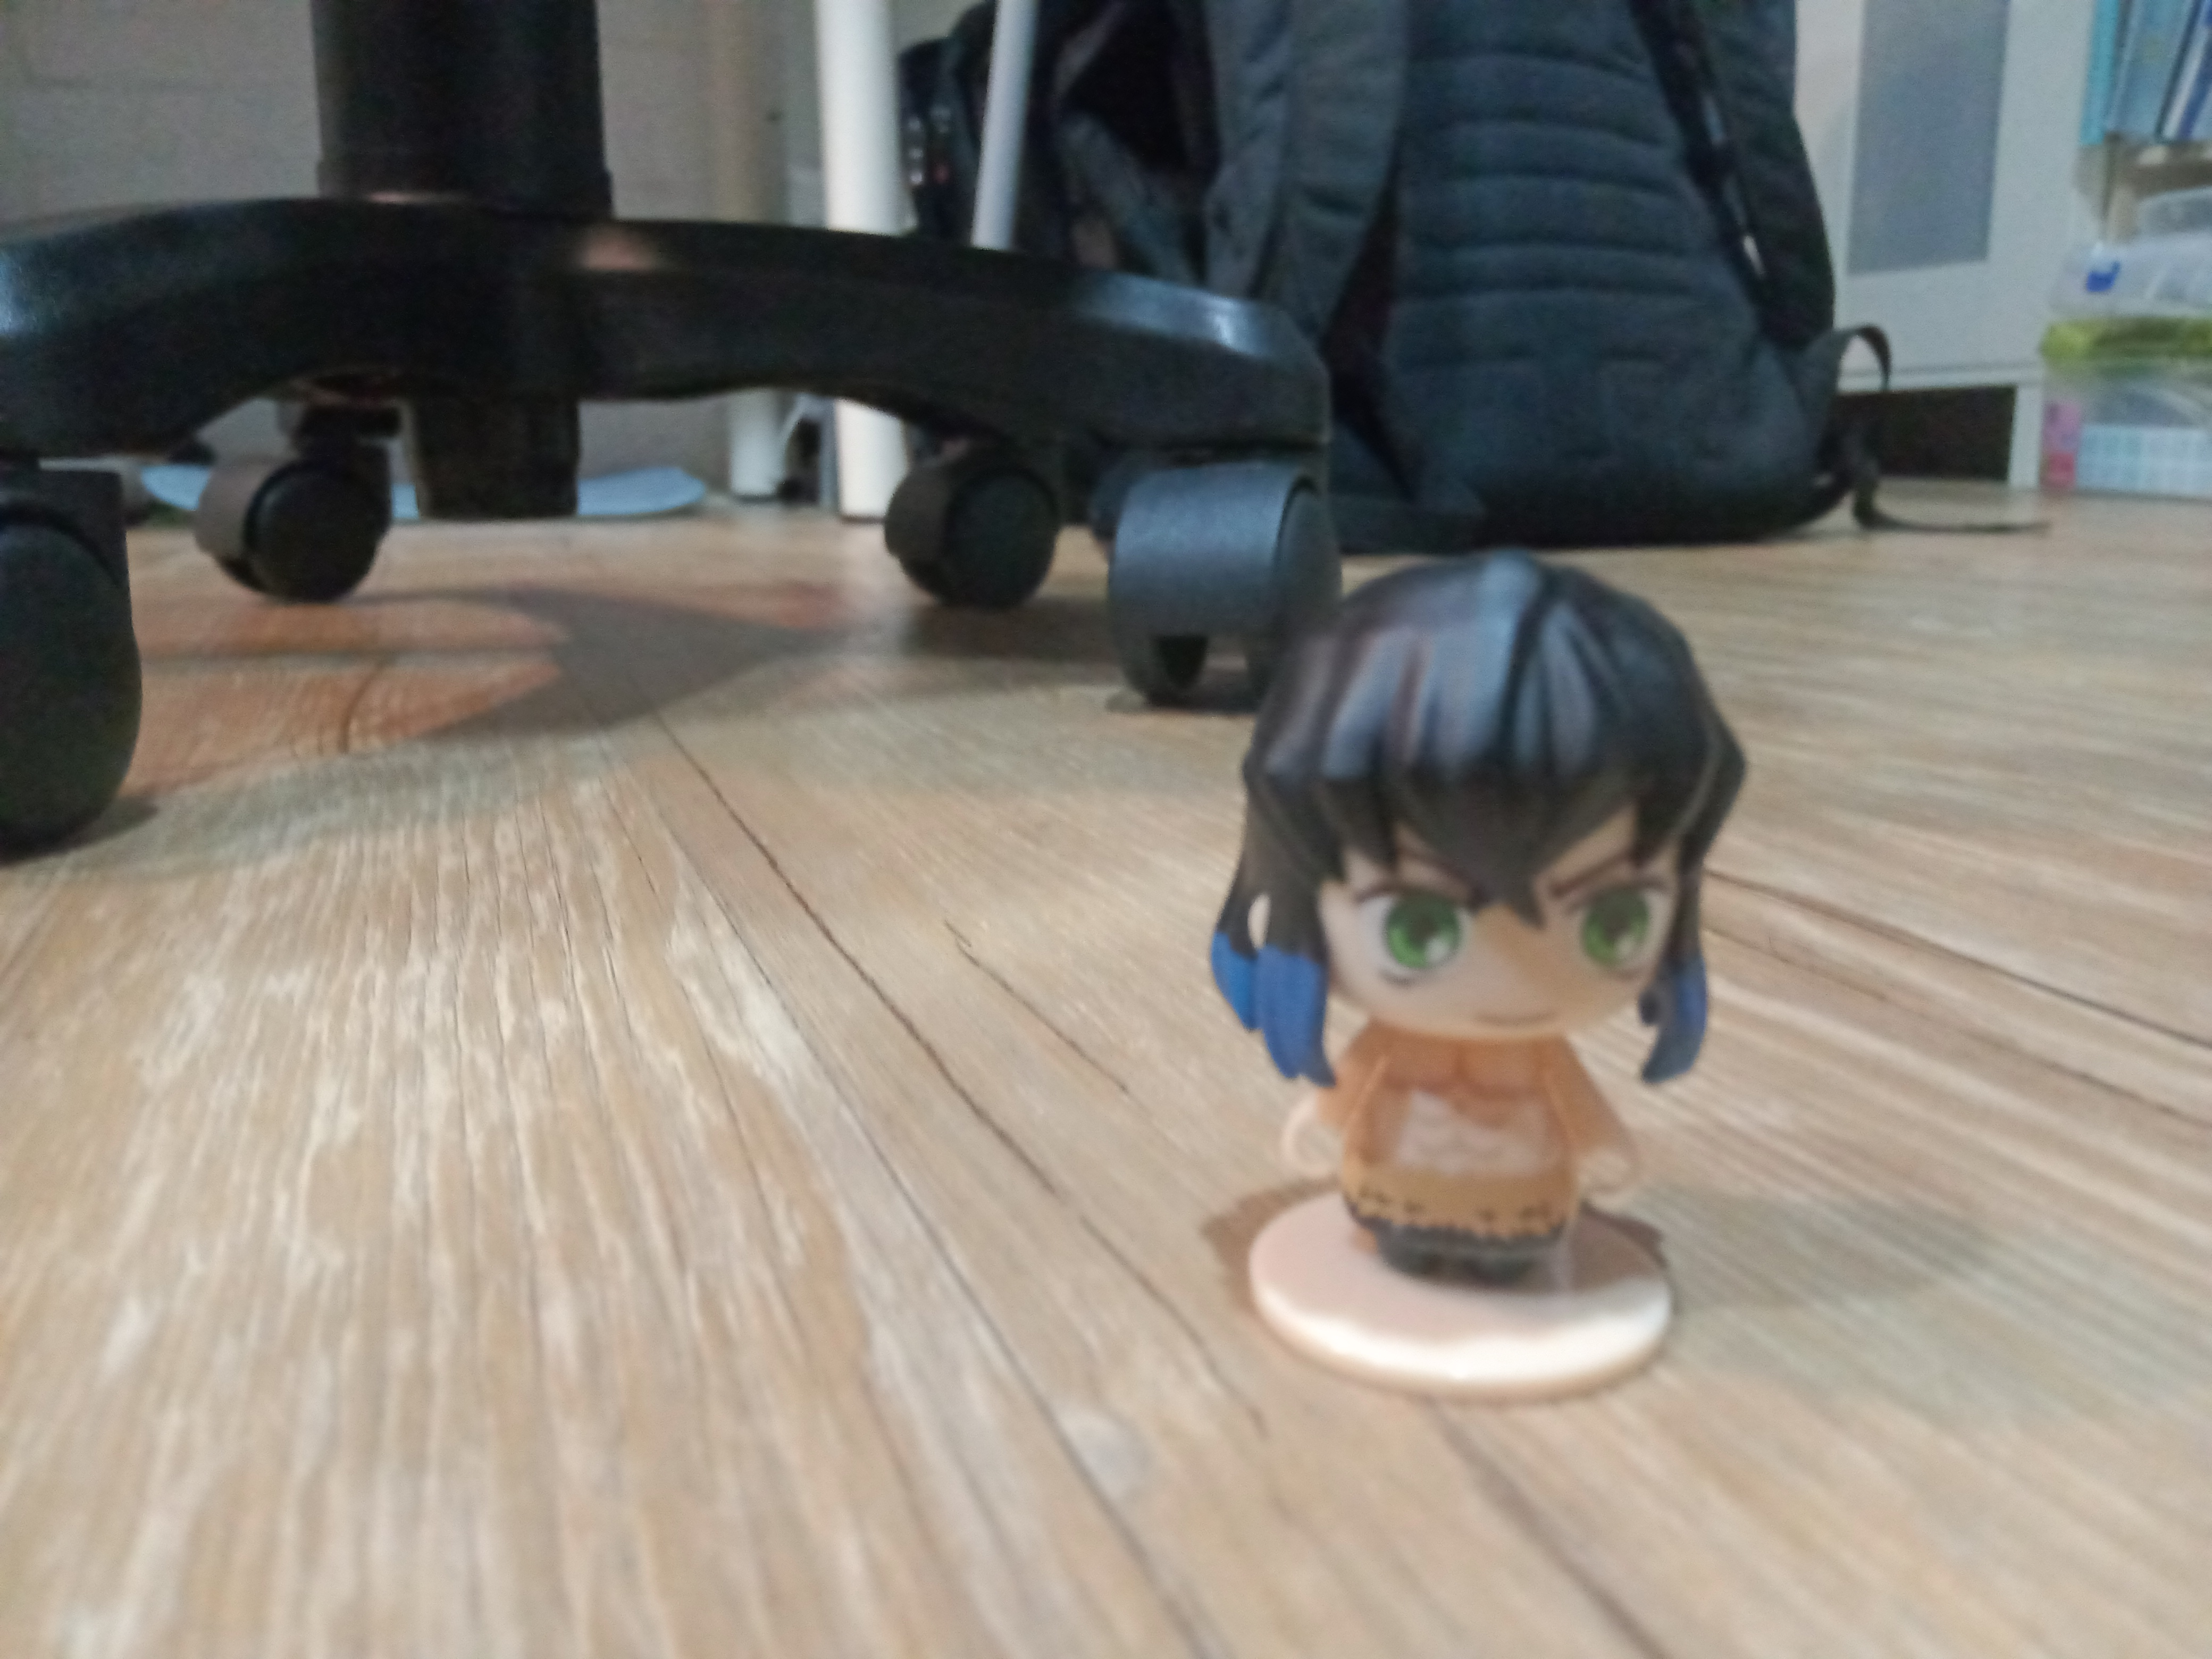Inosuke: (1183, 530, 1756, 1425)
